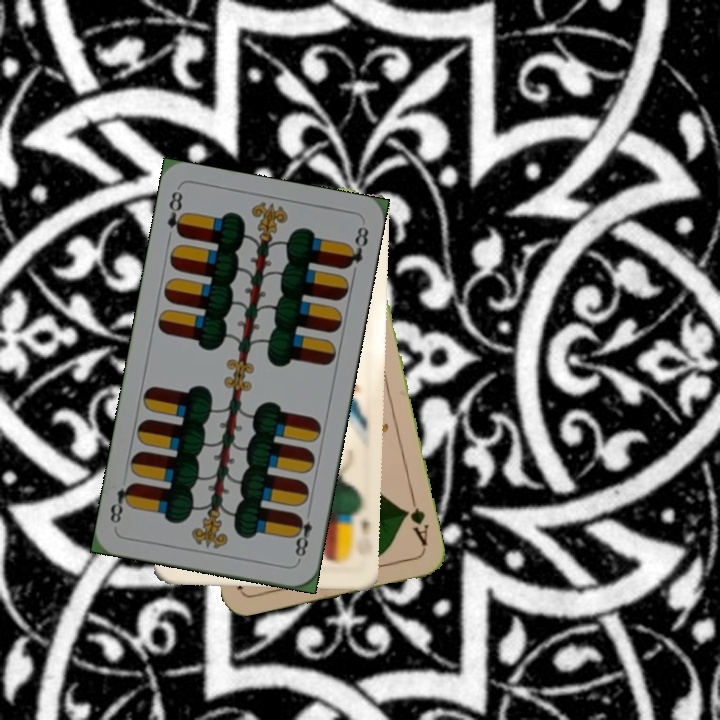E8: (289, 510, 315, 564), (163, 187, 189, 239)
EO: (346, 507, 373, 559)
GA: (400, 493, 432, 552)
